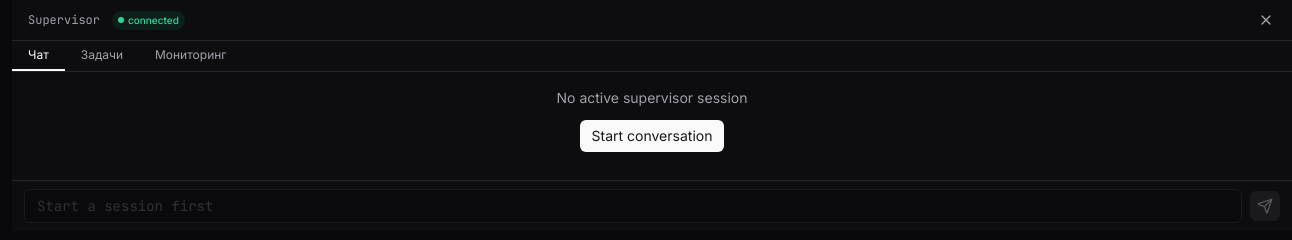
Test case: SupervisorChat — session management on read-only channels › hides 'Start conversation' button on tasks channel when sessionInfo is null
This screenshot has width=1292, height=240.
Click the button "Задачи" at (102, 56), box top-left (65, 41), bottom-right (139, 71)
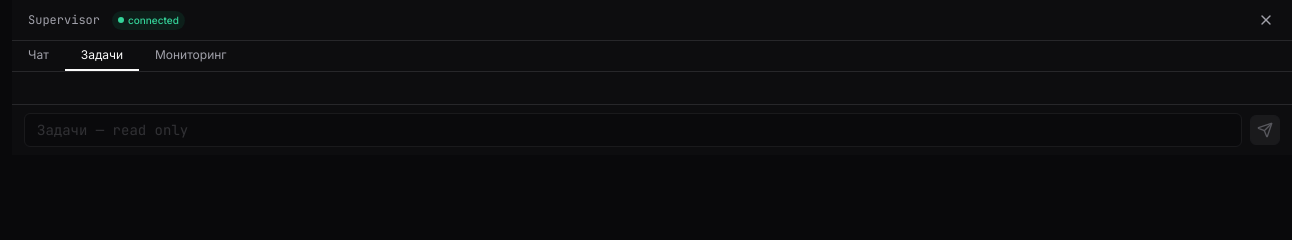
Expected: the button "Start conversation" is gone
